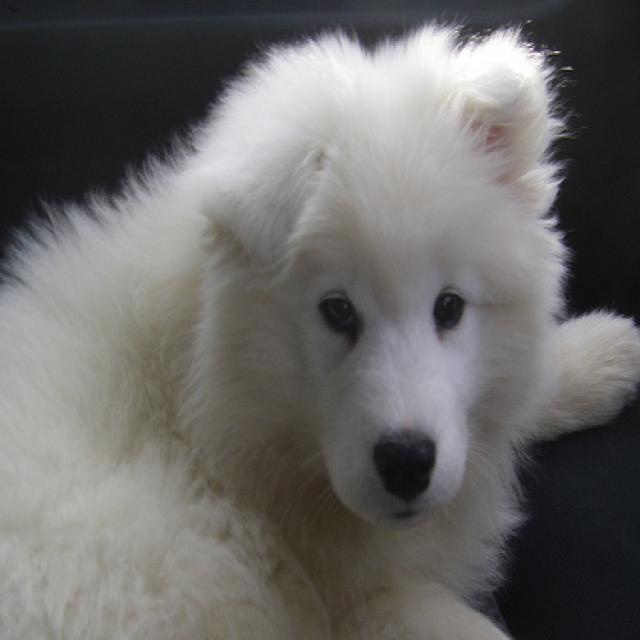dog-samoyed: (1, 12, 637, 637)
